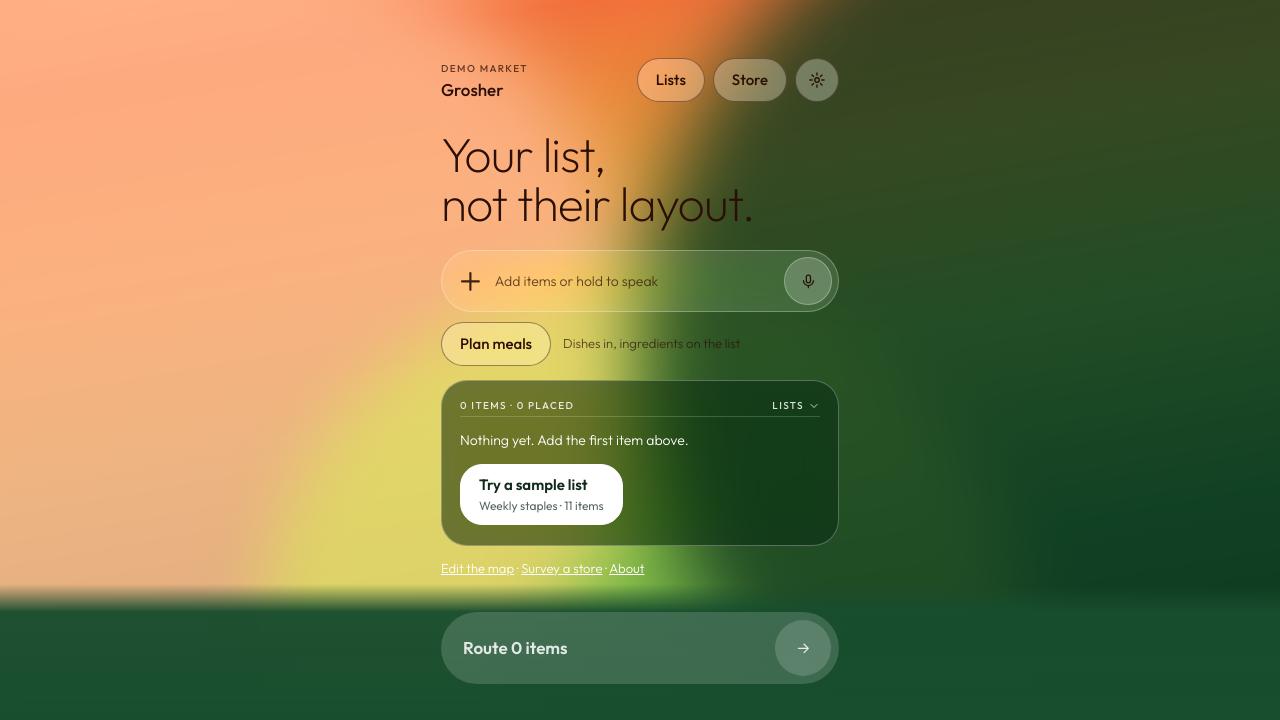
Scenario: voice entry › permission denied shows a one-line note, never an error state
Press the mouse on the button named "hold to speak" at (808,281), box [784,257,832,305]
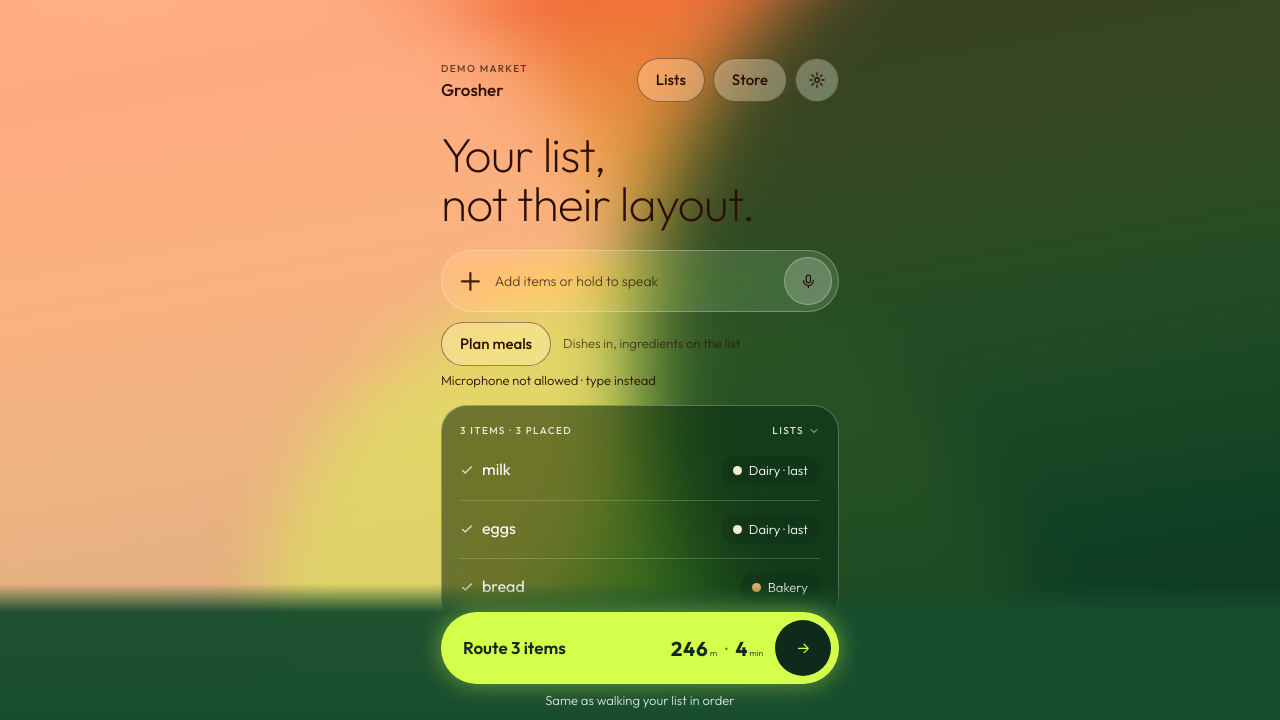
Expected: the text "Microphone not allowed · type instead" is shown, [441,372,656,388]
